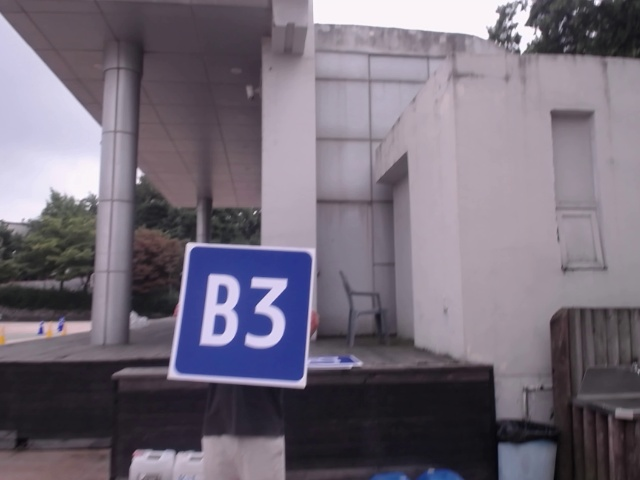delivery_b3: (176, 246, 314, 382)
